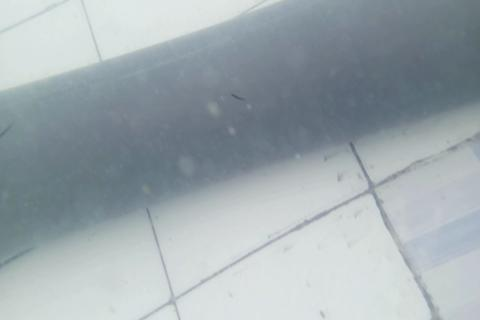keretakan: (0, 119, 18, 141), (228, 90, 248, 104)
